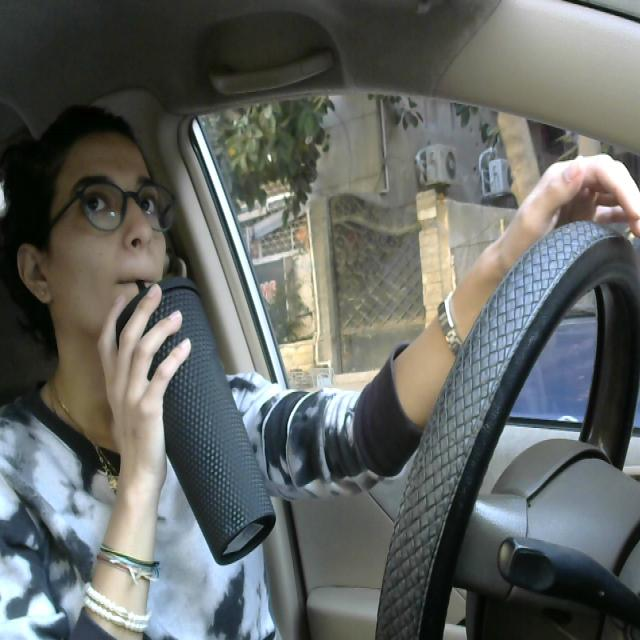drinking: (117, 268, 280, 580)
